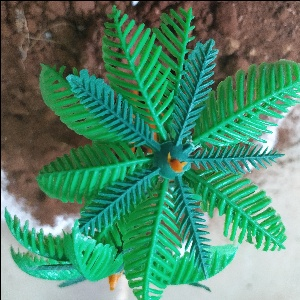plant: (36, 14, 300, 289)
